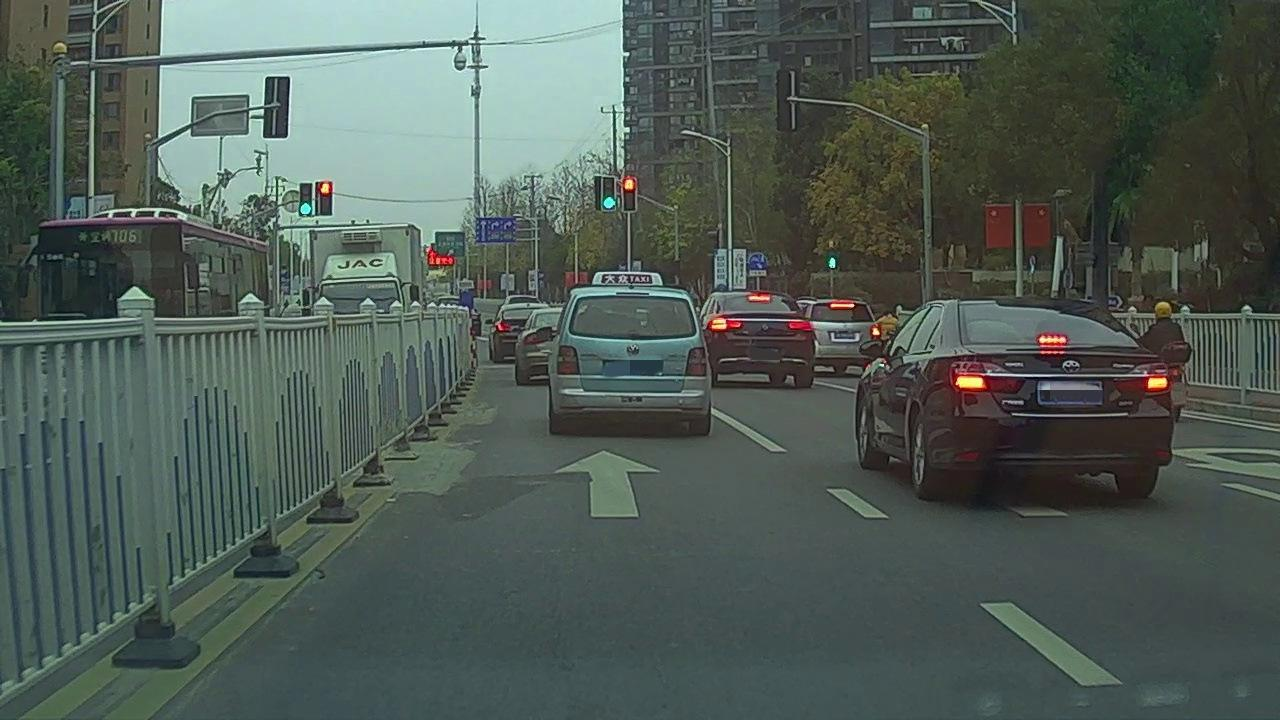traffic_light: (316, 180, 333, 214), (602, 177, 615, 210), (299, 184, 311, 216), (624, 178, 636, 210)
